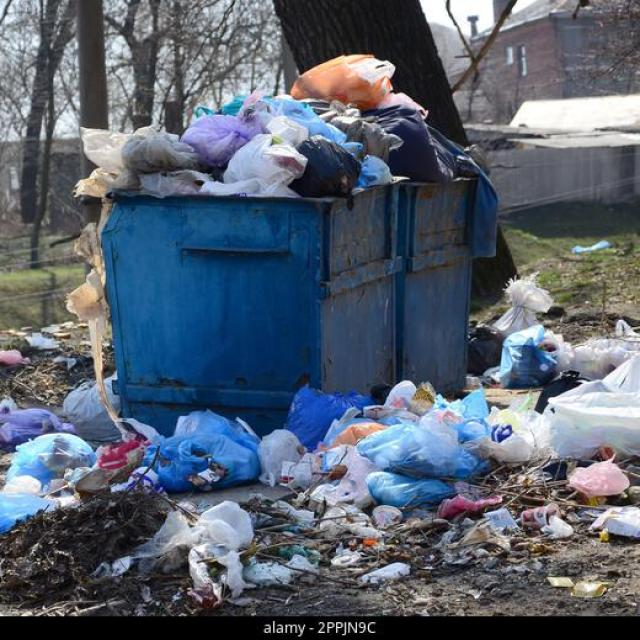trash: (62, 49, 628, 528)
